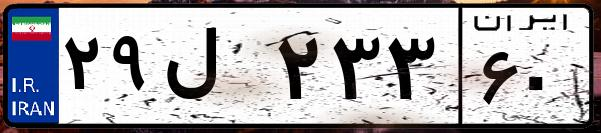0: (525, 38, 570, 115)
2: (270, 28, 330, 110), (57, 26, 110, 100)
3: (385, 28, 445, 110), (330, 28, 385, 110)
6: (475, 38, 525, 113)
9: (110, 28, 158, 98)
ل: (158, 20, 270, 120)
